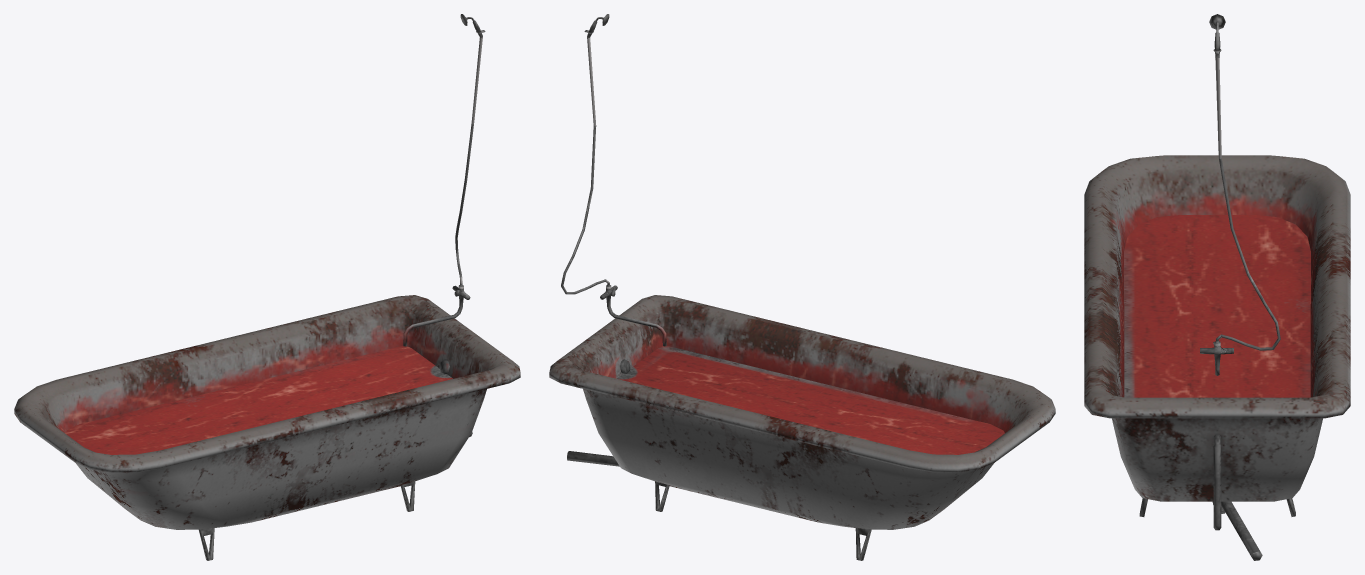
File: bath.obj
3 renders of one model, left to right at view 1: azimuth 30°, elevation 25°; view 2: azimuth 150°, elevation 25°; view 3: azimuth 270°, elevation 25°, orthographic. The views are drawn at different scales.
Parts seen in each view (by area): view 1: BezierCurve; view 2: BezierCurve; view 3: BezierCurve.
Part boxes in pixels (left/top/right/bottom): BezierCurve: left=14, top=14, right=520, bottom=560; BezierCurve: left=549, top=14, right=1055, bottom=560; BezierCurve: left=1084, top=14, right=1350, bottom=560.
Bounding box in the file's own units: 1.71 × 1.69 × 0.7415.
